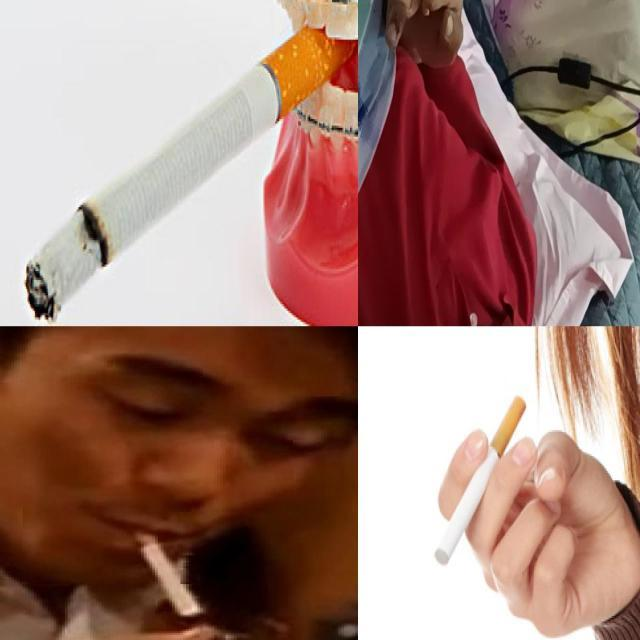smoking: (23, 31, 344, 324), (432, 391, 530, 566), (124, 528, 208, 620), (422, 0, 431, 18)
